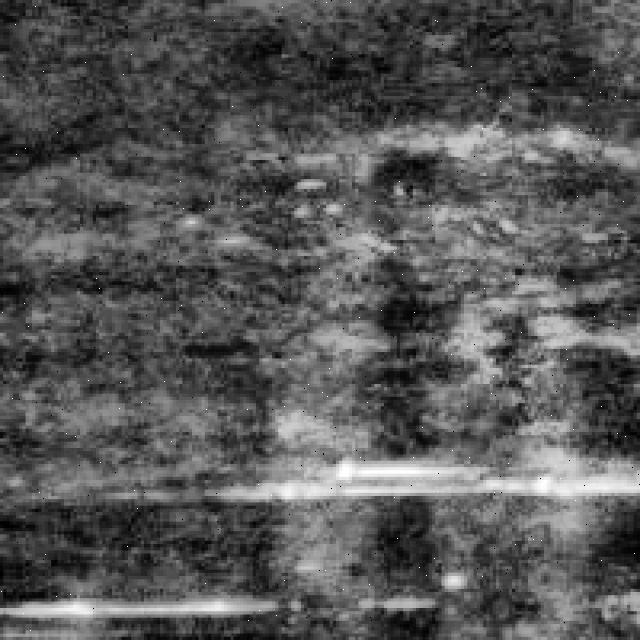Inclusion: (262, 448, 640, 509), (10, 576, 282, 624)
